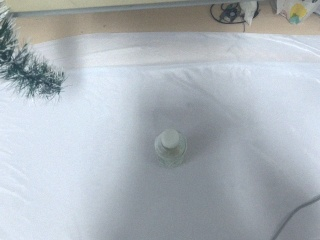bottle: (153, 128, 188, 169)
